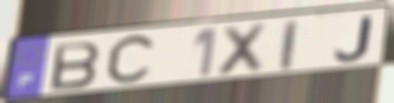1: (189, 26, 219, 81)
B: (48, 39, 103, 93)
C: (103, 31, 160, 89)
I: (279, 18, 300, 73)
J: (333, 14, 374, 62)
X: (213, 20, 271, 78)
